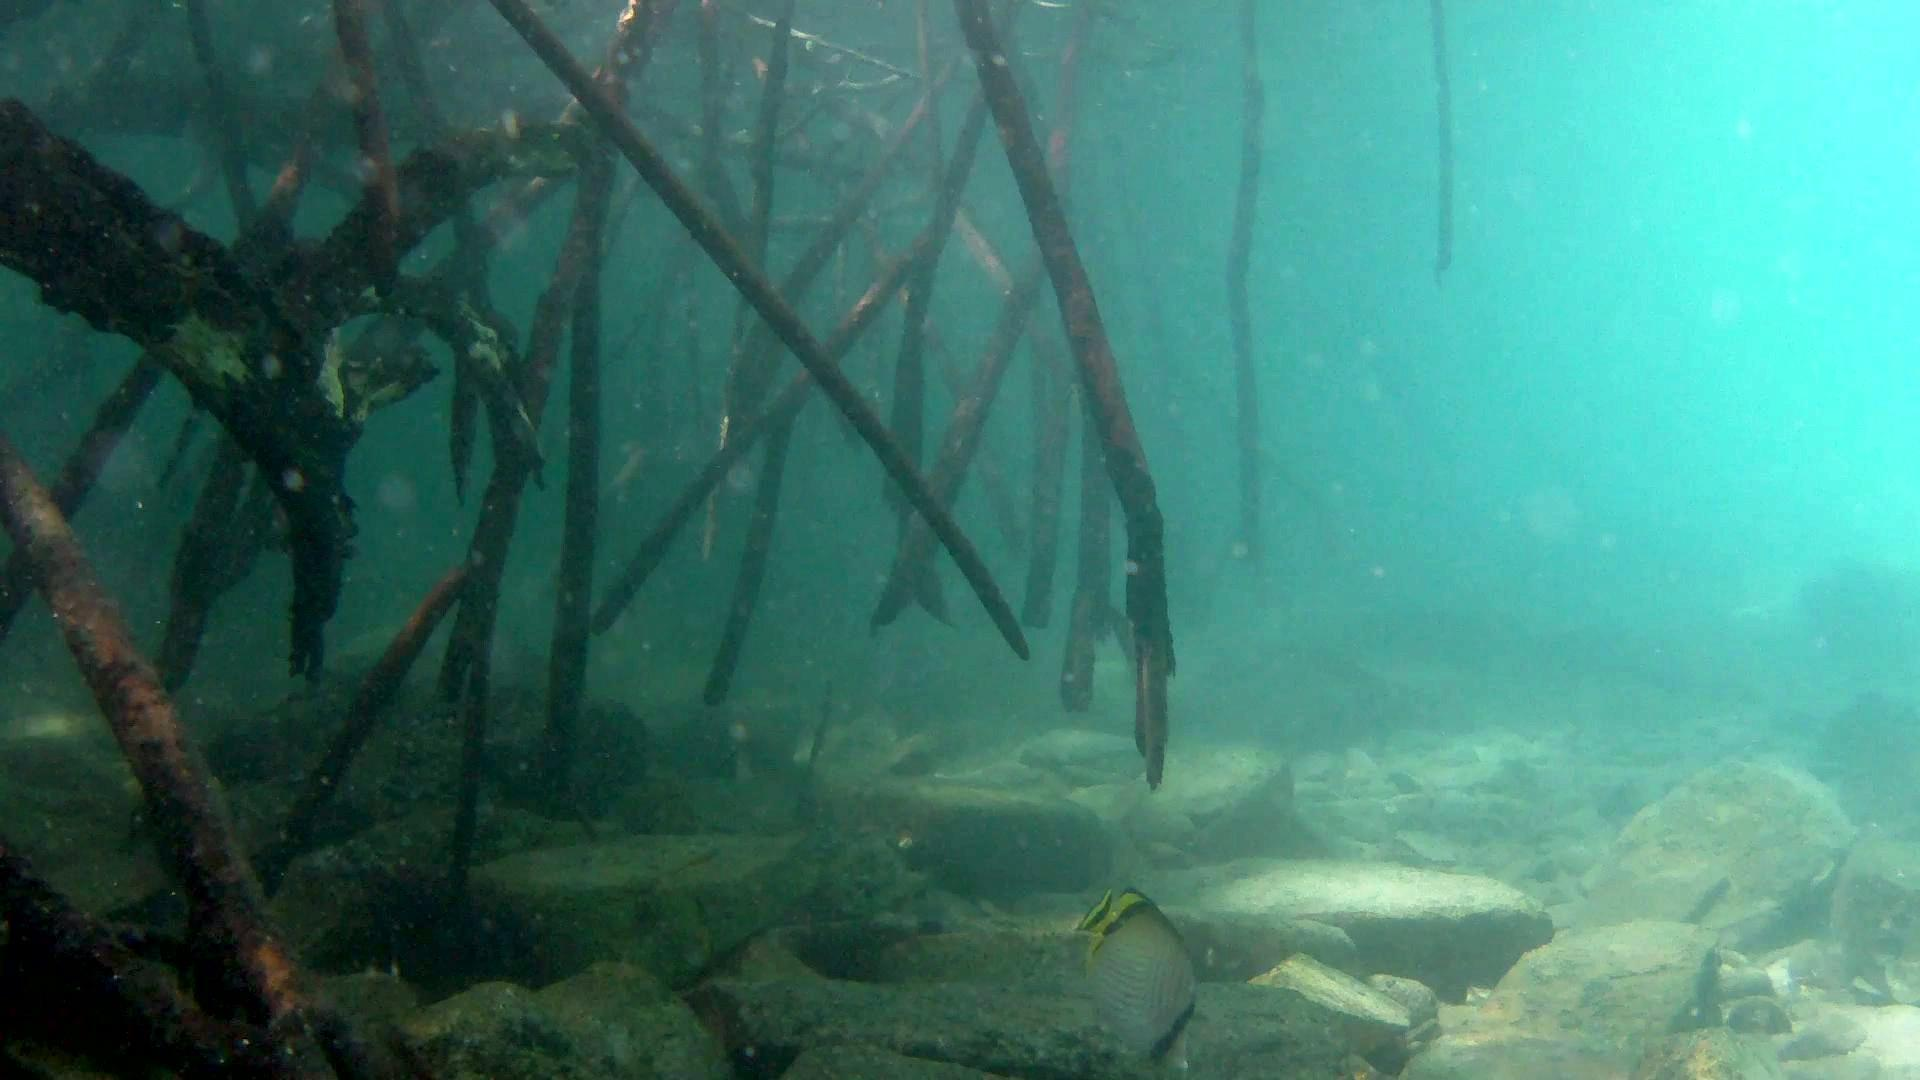chaetodon vagabundus: (1073, 886, 1200, 1072)
